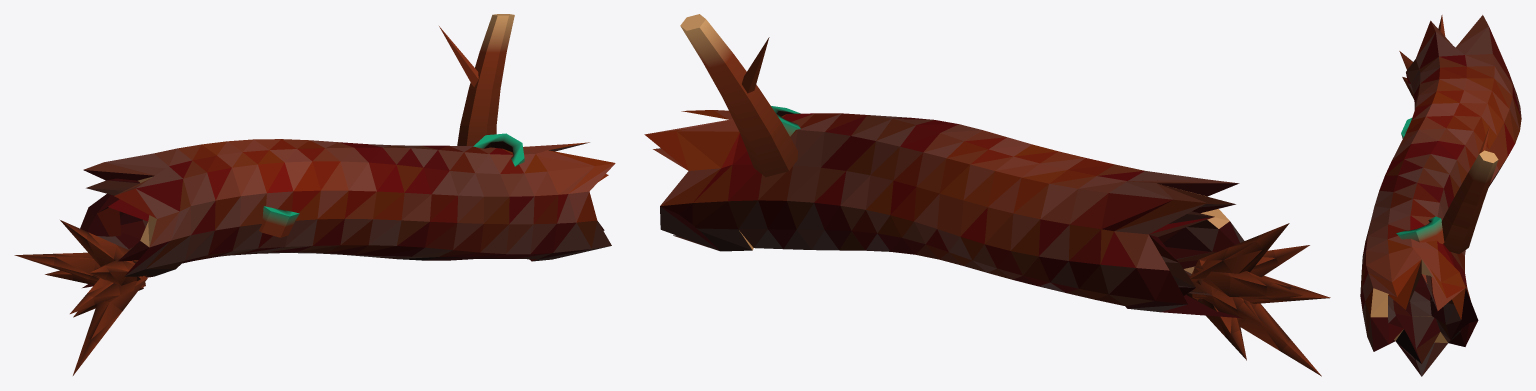
The model's file is pohon_tumbang_uprooted_redwood_876259.glb.
3 views of the same model, side by side, from view 1: azimuth 30°, elevation 25°; view 2: azimuth 150°, elevation 25°; view 3: azimuth 270°, elevation 25° (orthographic). The views are drawn at different scales.
Visible parts, largest first — view 1: Tunggul_Akar_Tumbang; view 2: Tunggul_Akar_Tumbang; view 3: Tunggul_Akar_Tumbang.
Boxes of the visible parts, x1=… form: Tunggul_Akar_Tumbang: x1=14, y1=14, x2=615, y2=375; Tunggul_Akar_Tumbang: x1=644, y1=14, x2=1330, y2=376; Tunggul_Akar_Tumbang: x1=1360, y1=15, x2=1521, y2=376.
Size of the model in its own units: 5.14 by 1.94 by 1.42.
